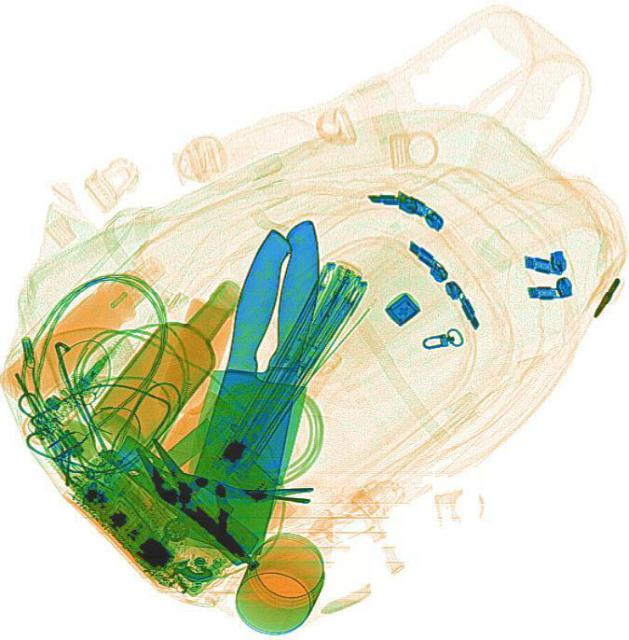Knife: (175, 226, 340, 558), (173, 208, 326, 562)
